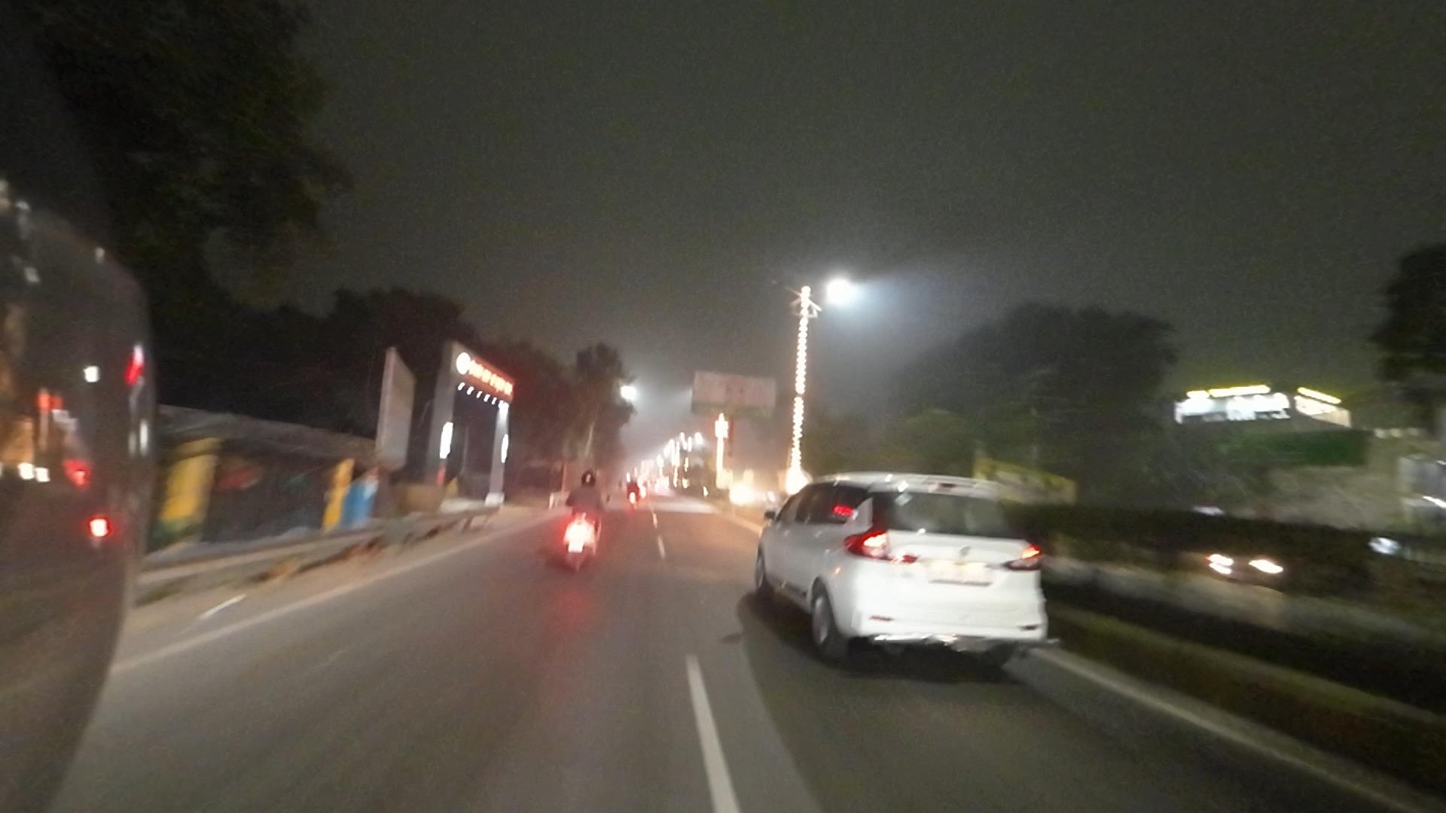streetlight: (765, 276, 797, 293)
